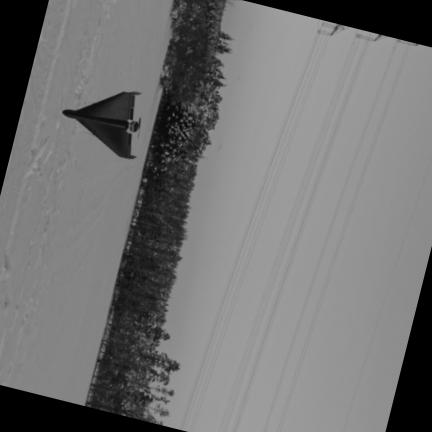Shahed: (61, 92, 139, 158)
